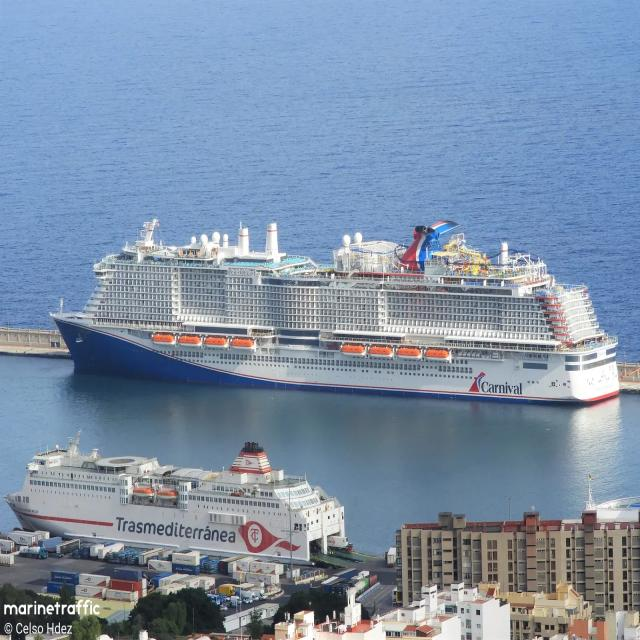Cruise: (51, 219, 620, 404)
